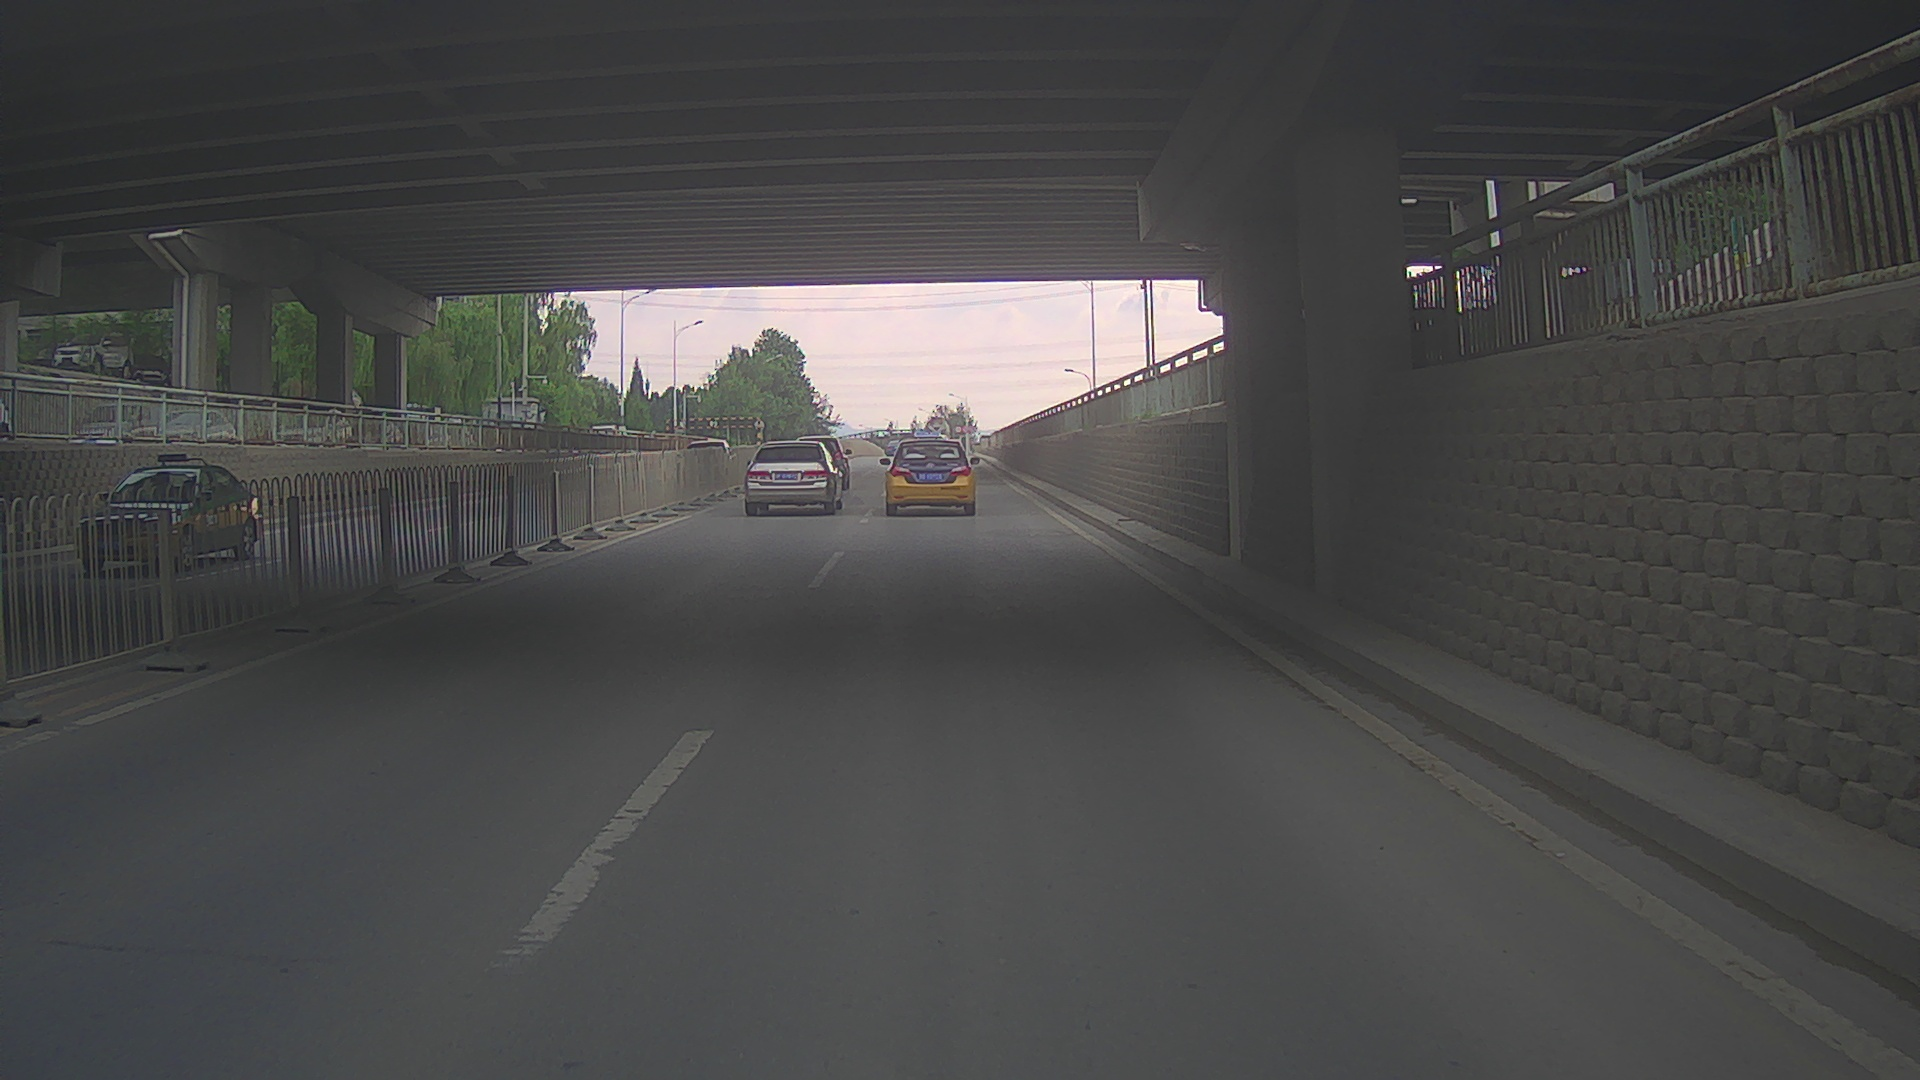car: (76, 452, 261, 572), (880, 430, 980, 516), (742, 440, 843, 516), (73, 402, 157, 451), (51, 330, 135, 378), (152, 407, 236, 451), (791, 435, 851, 491), (276, 407, 353, 450), (673, 439, 737, 487), (344, 419, 404, 450), (423, 423, 477, 456), (311, 388, 363, 414), (885, 440, 906, 456)
ignore: (1, 400, 16, 440), (136, 369, 166, 385), (588, 425, 617, 434)
truck: (920, 415, 951, 454)
